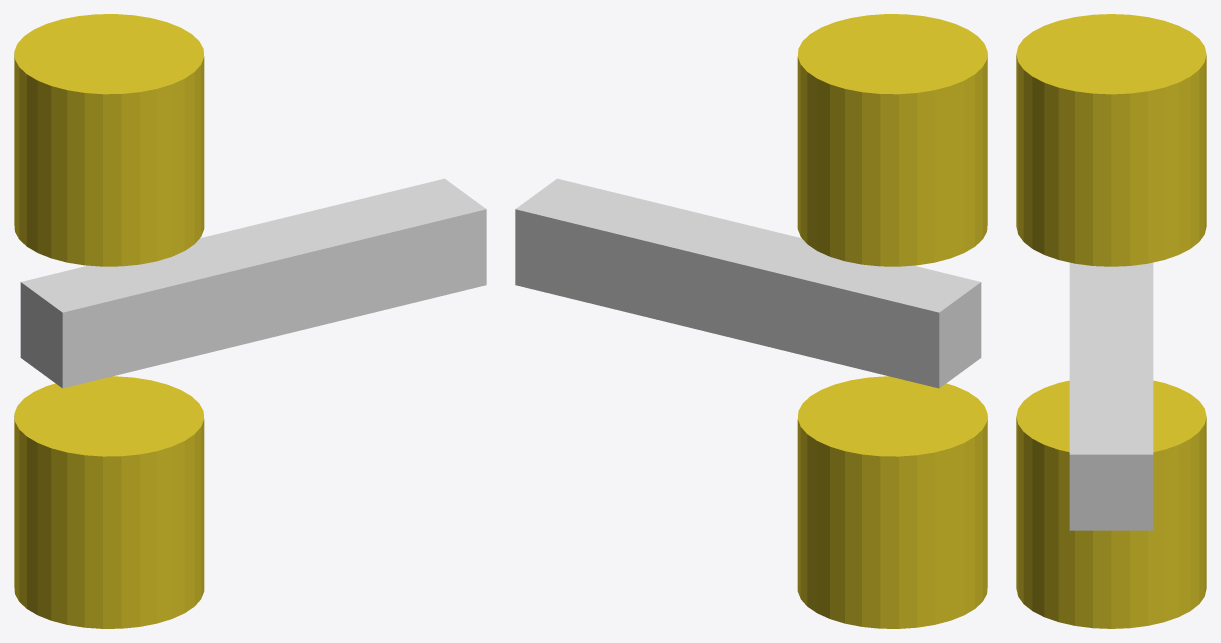
The picture shows the model from 3 angles, left to right: view 1: azimuth 30°, elevation 25°; view 2: azimuth 150°, elevation 25°; view 3: azimuth 270°, elevation 25°; orthographic projection.
Visible parts, largest first — view 1: Cube; view 2: Cube; view 3: Cube.
Boxes of the visible parts, x1=… form: Cube: x1=14, y1=14, x2=486, y2=628; Cube: x1=515, y1=14, x2=987, y2=628; Cube: x1=1016, y1=14, x2=1206, y2=628.
Bounding box in the file's own units: 5.33 × 6.2 × 2.
